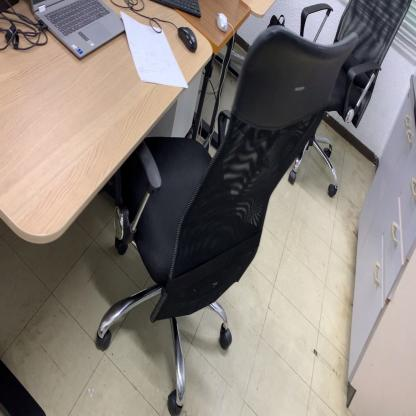chair: (96, 24, 359, 416), (290, 0, 413, 199)
